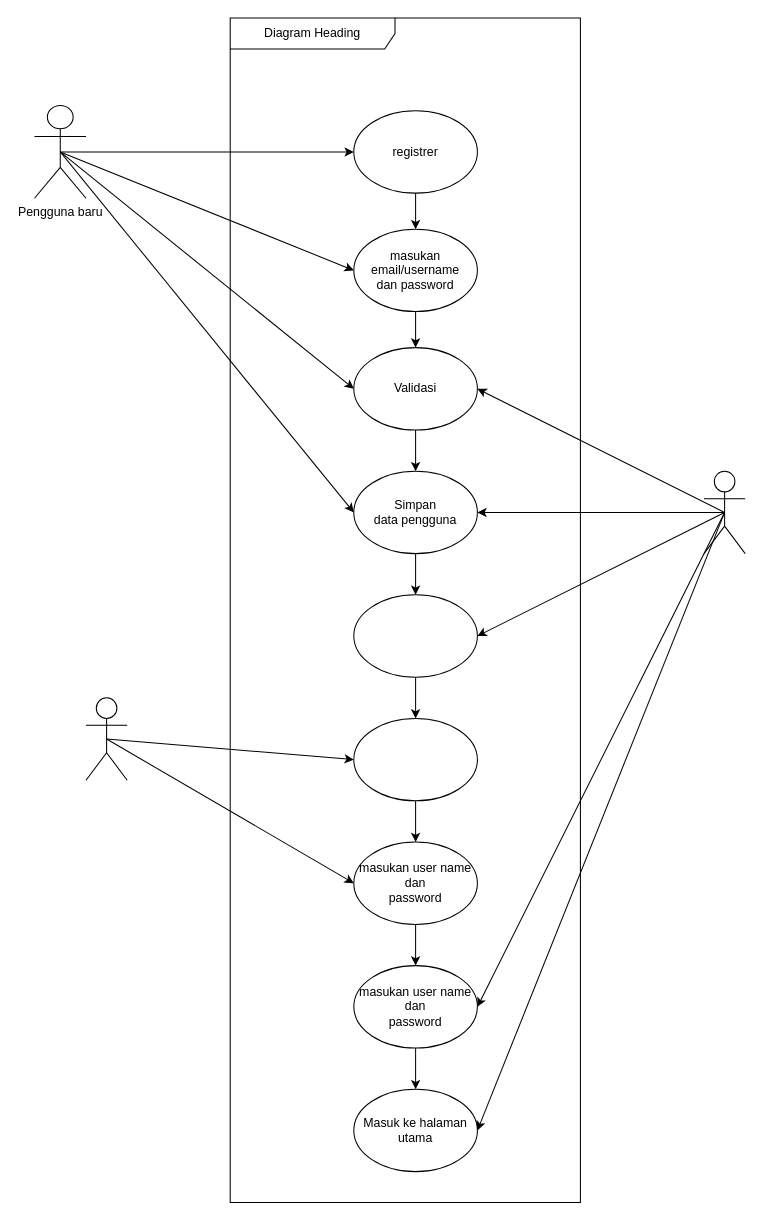
The diagram is 763 pixels wide and 1221 high, and some of its shapes have lost their labels. The centre of each missing label's shape, as x and y in pixels:
"konfirmasi pembuatan akun" goes at (415,635).
"Login" goes at (415,759).
"sistem" goes at (724,512).
"user" goes at (106,738).
